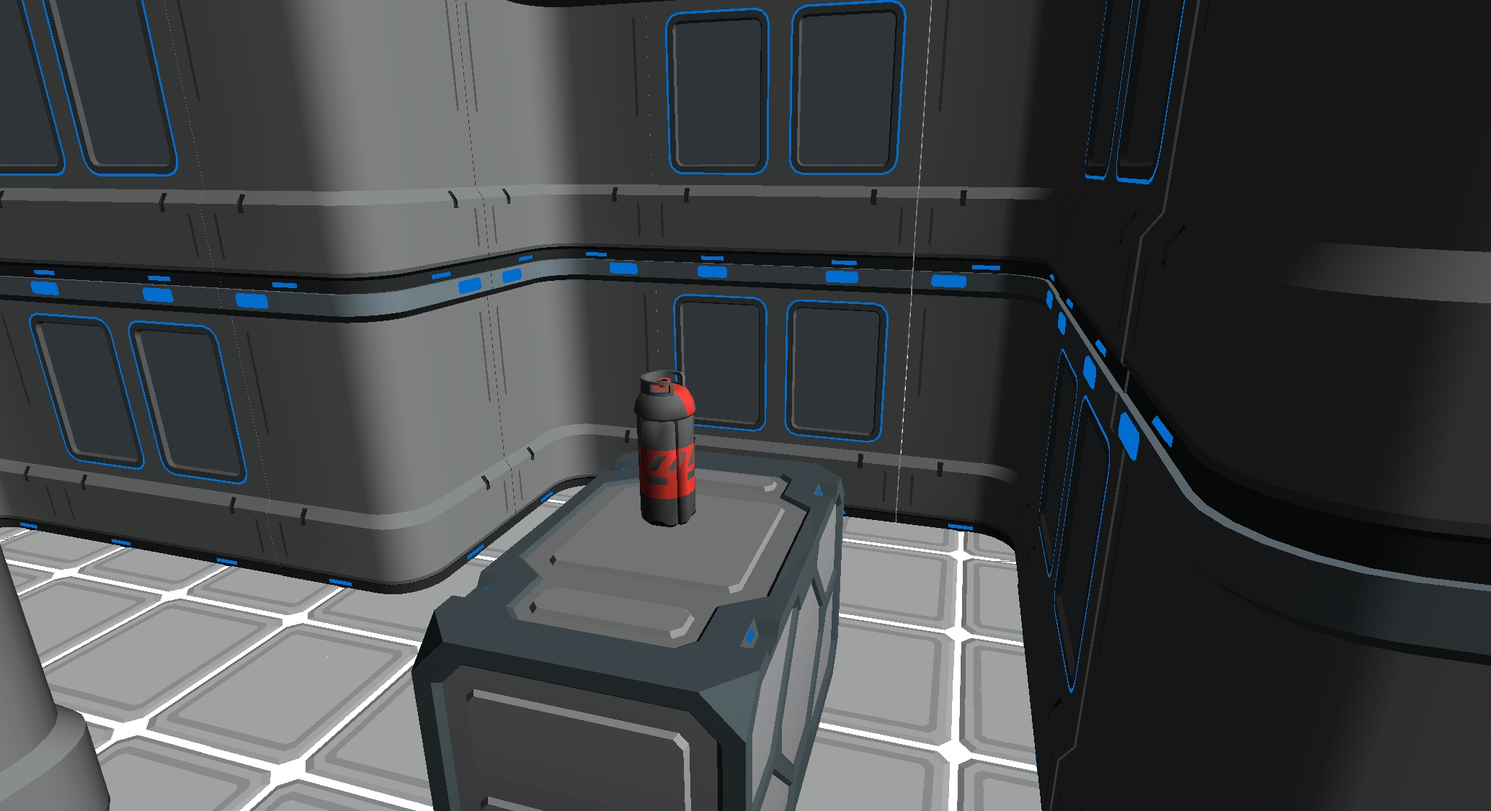red_barrel: (635, 370, 695, 526)
